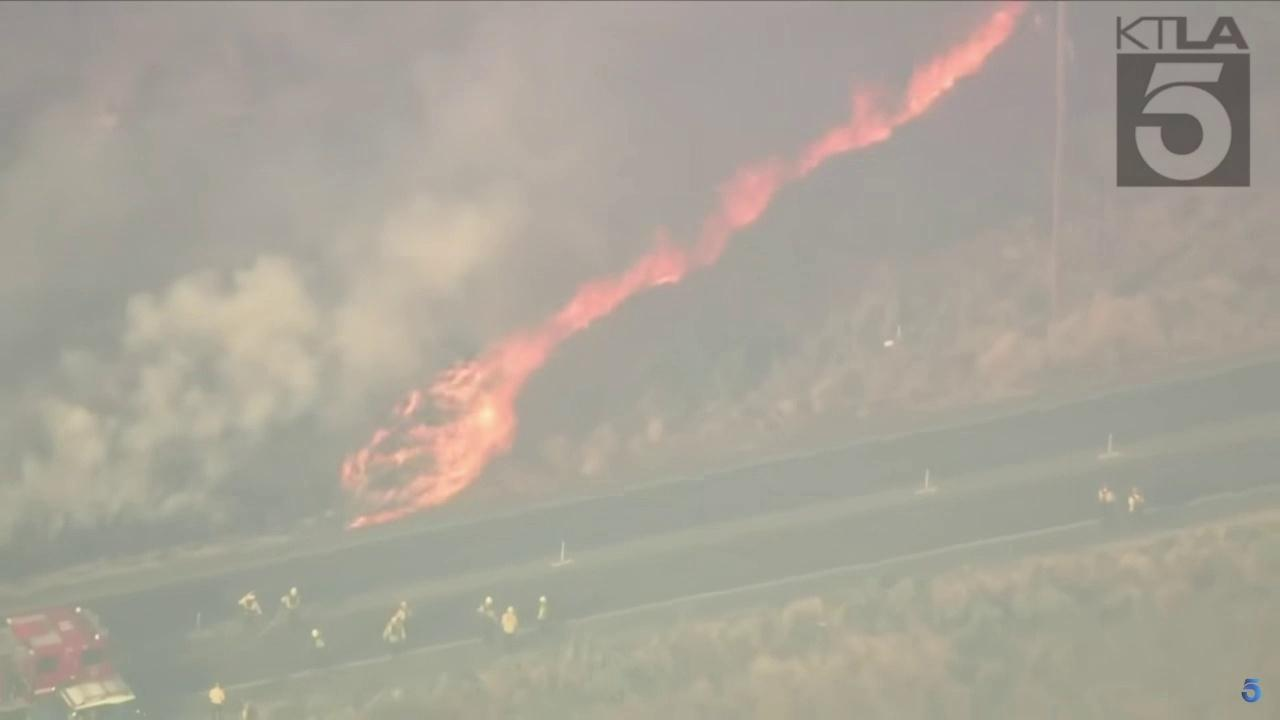fire: (337, 0, 1034, 531)
smoke: (0, 0, 1052, 552)
